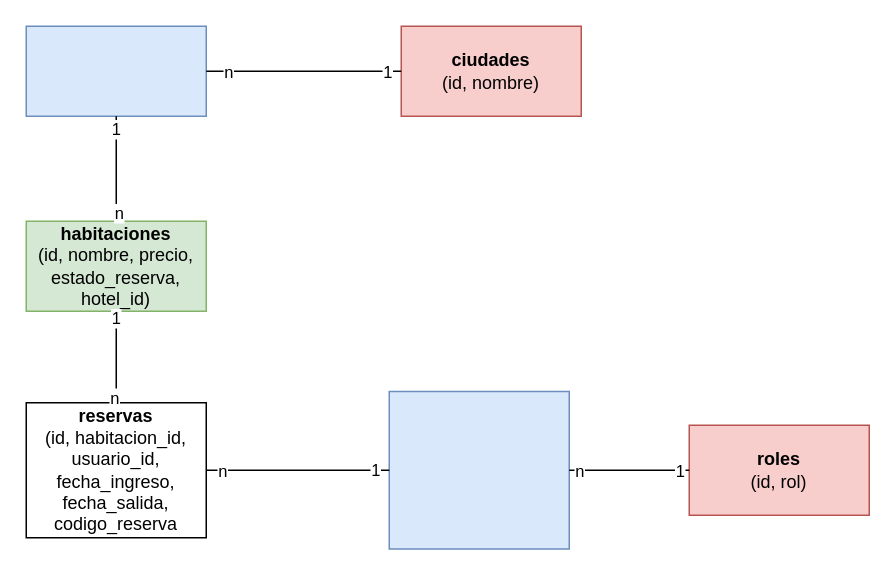
The diagram is 896 pixels wide and 576 high, and some of its shapes have lost their labels. The centre of each missing label's shape, as x and y in pixels:
"hoteles (id, nombre, estrellas)" goes at point 115,70.
"usuarios (id, nombre, num_identificacion, telefono, password_digest, rol_id)" goes at point 478,469.
